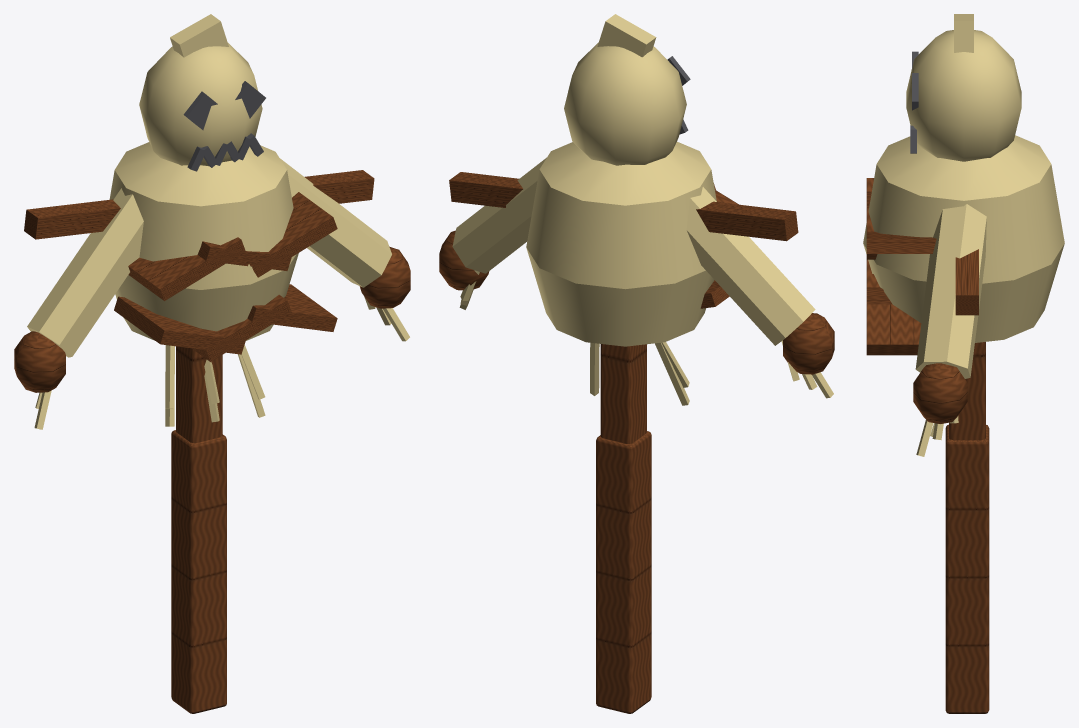
The model's file is burlap-scarecrow.glb.
The picture shows the model from 3 angles, left to right: view 1: azimuth 30°, elevation 25°; view 2: azimuth 150°, elevation 25°; view 3: azimuth 270°, elevation 25°; orthographic projection.
Visible parts, largest first — view 1: scarecrow-body/straw, scarecrow-body/timber, burlap-scarecrow, scarecrow-body/dark; view 2: scarecrow-body/straw, burlap-scarecrow, scarecrow-body/timber; view 3: scarecrow-body/straw, burlap-scarecrow, scarecrow-body/timber, scarecrow-body/dark.
Part boxes in pixels (left/top/right/bottom): scarecrow-body/straw: left=27, top=14, right=409, bottom=429; scarecrow-body/timber: left=14, top=170, right=410, bottom=442; burlap-scarecrow: left=171, top=430, right=226, bottom=713; scarecrow-body/dark: left=183, top=81, right=265, bottom=171; scarecrow-body/straw: left=452, top=14, right=833, bottom=405; burlap-scarecrow: left=596, top=431, right=651, bottom=713; scarecrow-body/timber: left=439, top=172, right=834, bottom=443; scarecrow-body/straw: left=863, top=14, right=1064, bottom=456; burlap-scarecrow: left=945, top=424, right=989, bottom=713; scarecrow-body/timber: left=866, top=178, right=985, bottom=440; scarecrow-body/dark: left=910, top=51, right=918, bottom=153.
Bounding box in the file's own units: 1.36 × 2.27 × 0.6.
3 materials, 1 textured.
